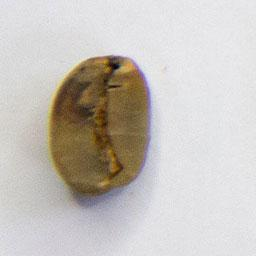defect: (45, 53, 154, 197)
